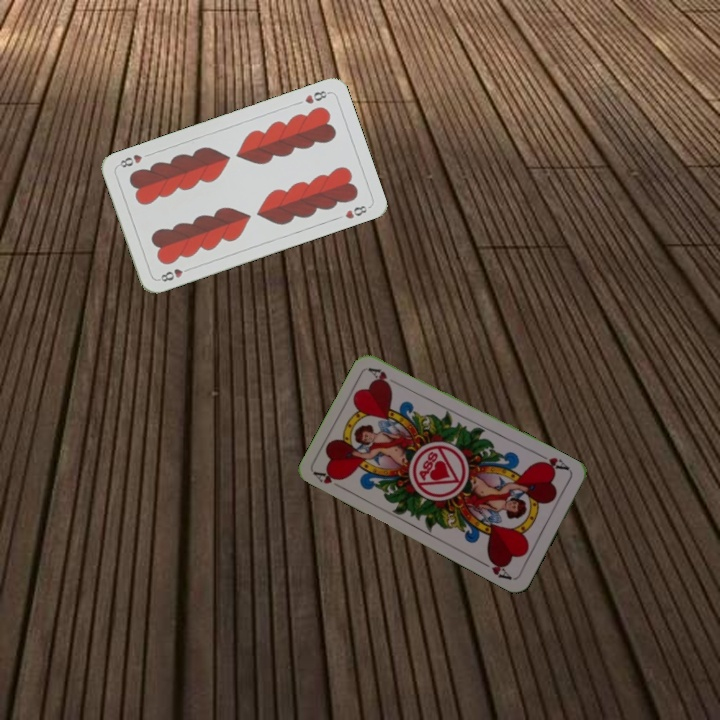H8: (154, 263, 194, 284), (301, 86, 332, 106)
HA: (310, 466, 349, 493), (533, 450, 573, 474)
